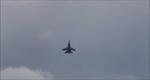maybay_muctieu: (61, 38, 78, 57)
